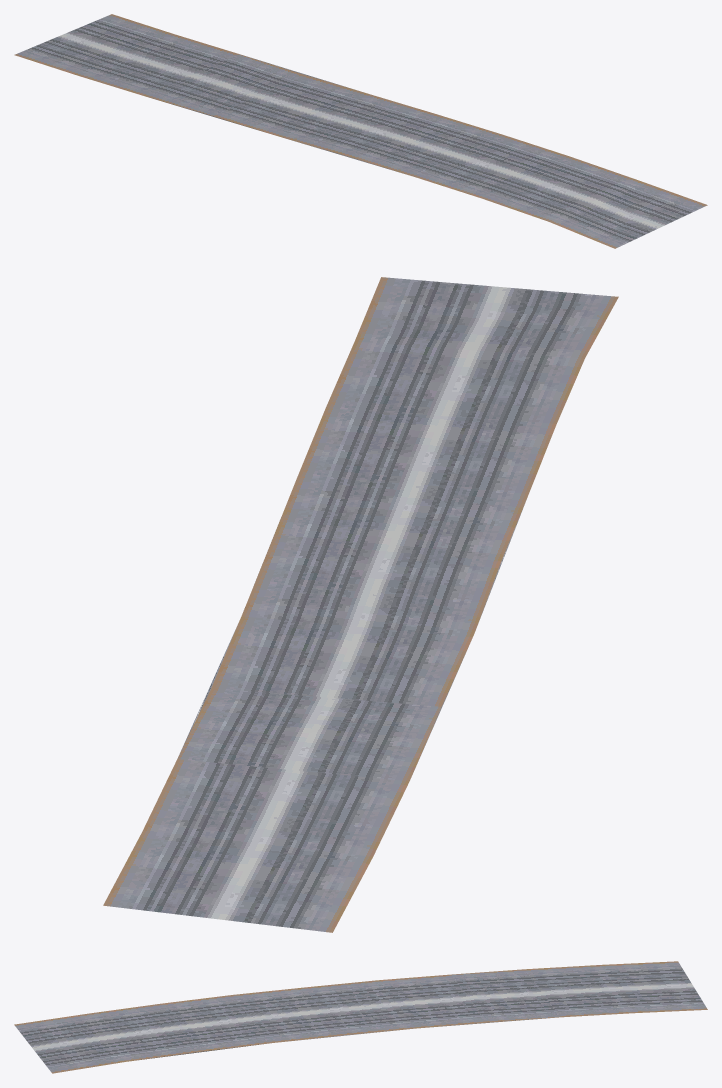
The model's file is lodassedge19.obj.
The picture shows the model from 3 angles, top to bottom: view 1: azimuth 30°, elevation 25°; view 2: azimuth 150°, elevation 25°; view 3: azimuth 270°, elevation 25°; orthographic projection. The views are drawn at different scales.
Visible parts, largest first — view 1: lodasSedge19; view 2: lodasSedge19; view 3: lodasSedge19.
Part boxes in pixels (box(x1,y1,x2,y2)): lodasSedge19: box(14, 14, 707, 248); lodasSedge19: box(103, 277, 618, 932); lodasSedge19: box(14, 961, 707, 1073).
Size of the model in its own units: 110 by 10.91 by 228.
Materials: 1 (1 with a texture image).
